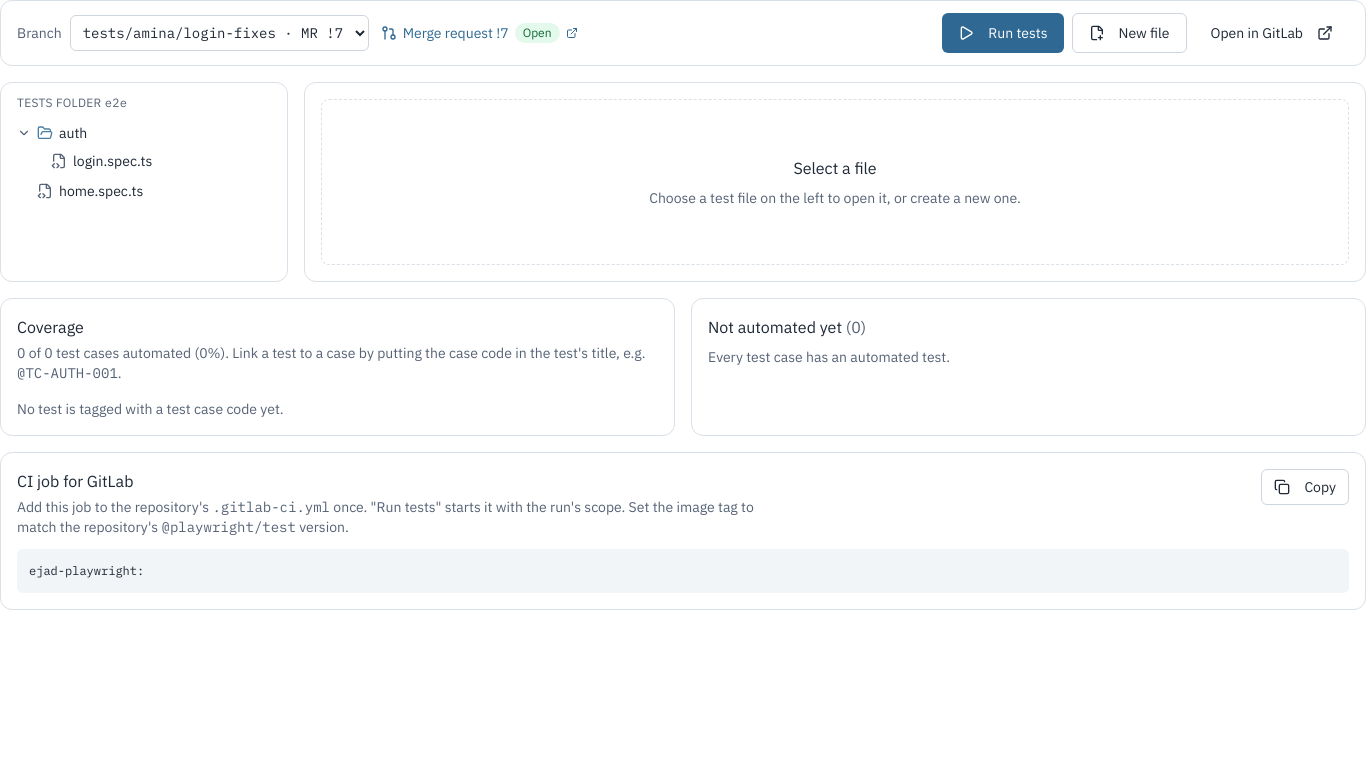
Test: AutomationView › shows another branch's files after switching branches
Expected: the button "login.spec.ts" is shown, [13,147,275,175]
Select "main (default)" in the dropdown labelled "Branch" at point(219, 33), box [70,15,369,51]
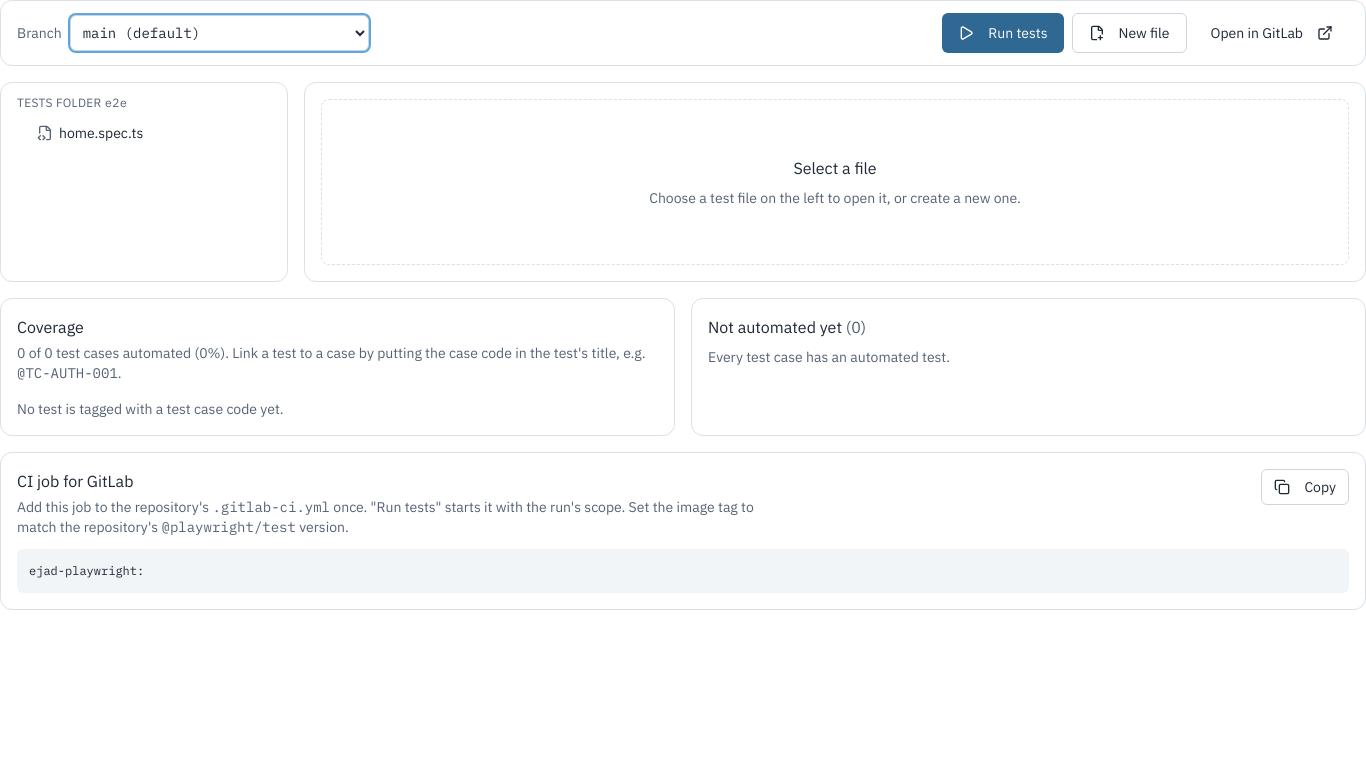
Expected: the button "home.spec.ts" is shown, [13,119,275,147]
Expected: the button "login.spec.ts" is gone
Expected: the link "Merge request" is gone
